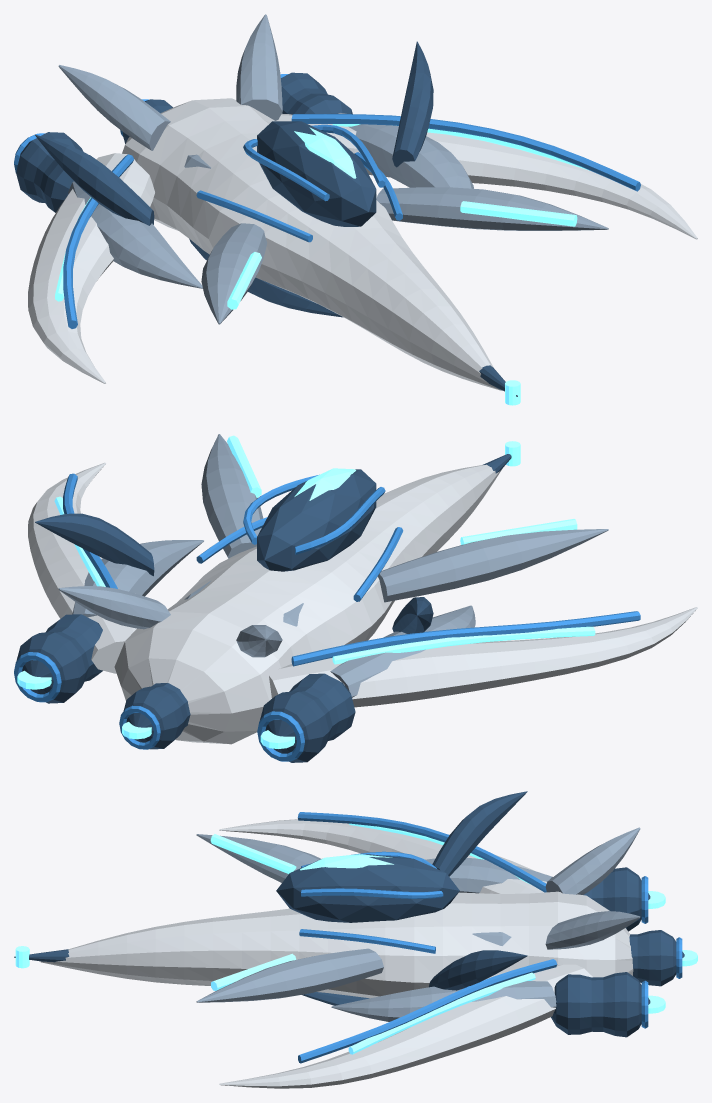
File: SL_VALKYRIE_LOD.glb
3 renders of one model, top to bottom at view 1: azimuth 30°, elevation 25°; view 2: azimuth 150°, elevation 25°; view 3: azimuth 270°, elevation 25°, orthographic. The views are drawn at different scales.
Visible parts, largest first — view 1: armor, plate, dark, accent, energy; view 2: armor, dark, plate, accent, energy; view 3: armor, dark, plate, accent, energy.
Part boxes in pixels (left/top/right/bottom): armor: left=28, top=98, right=697, bottom=390; plate: left=58, top=14, right=608, bottom=324; dark: left=16, top=41, right=517, bottom=396; accent: left=14, top=74, right=640, bottom=328; energy: left=55, top=124, right=589, bottom=405; armor: left=28, top=462, right=697, bottom=744; dark: left=16, top=454, right=511, bottom=762; plate: left=58, top=434, right=608, bottom=697; accent: left=14, top=473, right=640, bottom=761; energy: left=17, top=435, right=595, bottom=748; armor: left=40, top=819, right=633, bottom=1088; dark: left=14, top=791, right=684, bottom=1037; plate: left=196, top=827, right=640, bottom=1021; accent: left=297, top=812, right=682, bottom=1063; energy: left=15, top=823, right=697, bottom=1054.
Size of the model in its own units: 5.83 by 1.65 by 6.39.
